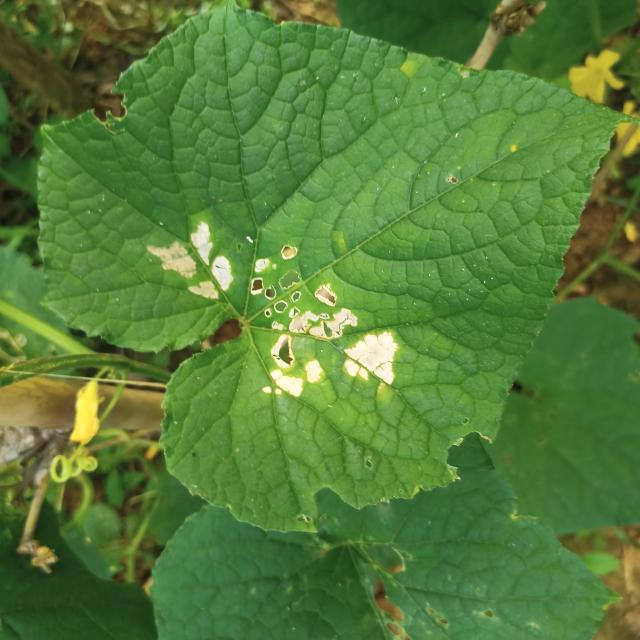disease_cucumber: (246, 239, 402, 405), (148, 216, 235, 306)
